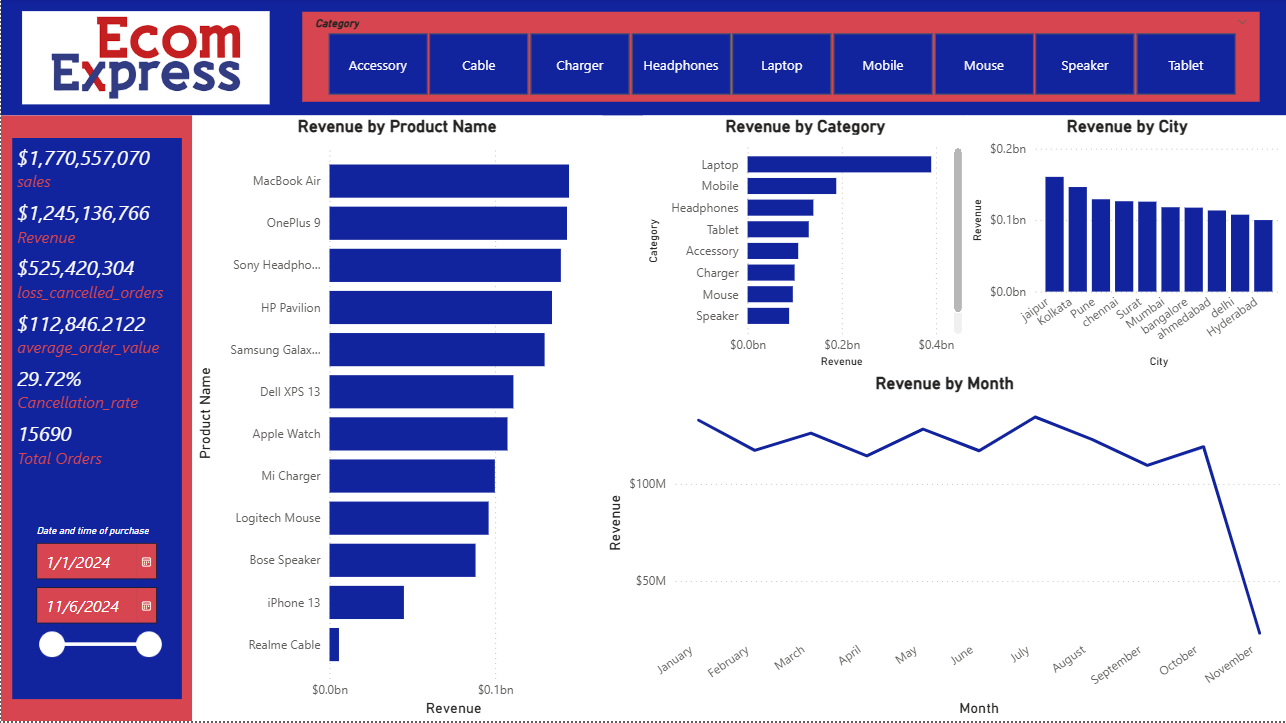

What the dashboard file says about the page in this screenshot:
{"tool":"powerbi","page":{"name":"Page 1","canvas":[1280,720],"ordinal":0},"visuals":[{"type":"shape","box":[0,0,1280,116.9],"z":0},{"type":"shape","box":[0,116.9,190.3,603.3],"z":1000},{"type":"image","box":[16.7,7,256,104.3],"z":2000},{"type":"barChart","fields":{"Y":["Table.Revenue"],"Category":["Products.Product Name"]},"box":[190.3,116.9,408,603.3],"z":3000},{"type":"barChart","fields":{"Y":["Table.Revenue"],"Category":["Products.Category"]},"box":[639.4,116.9,322.2,256.3],"z":4000},{"type":"lineChart","fields":{"Y":["Table.Revenue"],"Category":["Orders.Date and time of purchase.Variation.Date Hierarchy.Month"]},"box":[598.3,373.2,681.7,347.1],"z":5000},{"type":"columnChart","fields":{"Category":["Customers.City"],"Y":["Table.Revenue"]},"box":[961.6,116.9,318.5,256.3],"z":6000},{"type":"slicer","fields":{"Values":["Products.Category"]},"box":[299.8,13.7,952.9,89.6],"z":7000},{"type":"multiRowCard","fields":{"Values":["Table.sales","Table.Revenue","Table.loss_cancelled_orders","Table.average_order_value","Table.Cancellation_rate","CountNonNull(Orders.OrderID)"]},"box":[11.2,139.3,169.2,558],"z":8000},{"type":"slicer","fields":{"Values":["Orders.Date and time of purchase"]},"box":[22.7,519.8,146,154.8],"z":9000}]}

Visuals, with their boxes in screenshot pixels (x1, y1, x2, y2), scaled from the page's 1280x720 canvas onto the 1286x723 screenshot:
shape: bbox(0, 0, 1285, 117)
shape: bbox(0, 117, 191, 722)
image: bbox(17, 7, 274, 112)
barChart - Table.Revenue x Products.Product Name: bbox(191, 117, 601, 722)
barChart - Table.Revenue x Products.Category: bbox(642, 117, 966, 375)
lineChart - Table.Revenue x Orders.Date and time of purchase.Variation.Date Hierarchy.Month: bbox(601, 375, 1285, 722)
columnChart - Customers.City x Table.Revenue: bbox(966, 117, 1285, 375)
slicer - Products.Category: bbox(301, 14, 1259, 104)
multiRowCard - Table.sales x Table.Revenue: bbox(11, 140, 181, 700)
slicer - Orders.Date and time of purchase: bbox(23, 522, 169, 677)
